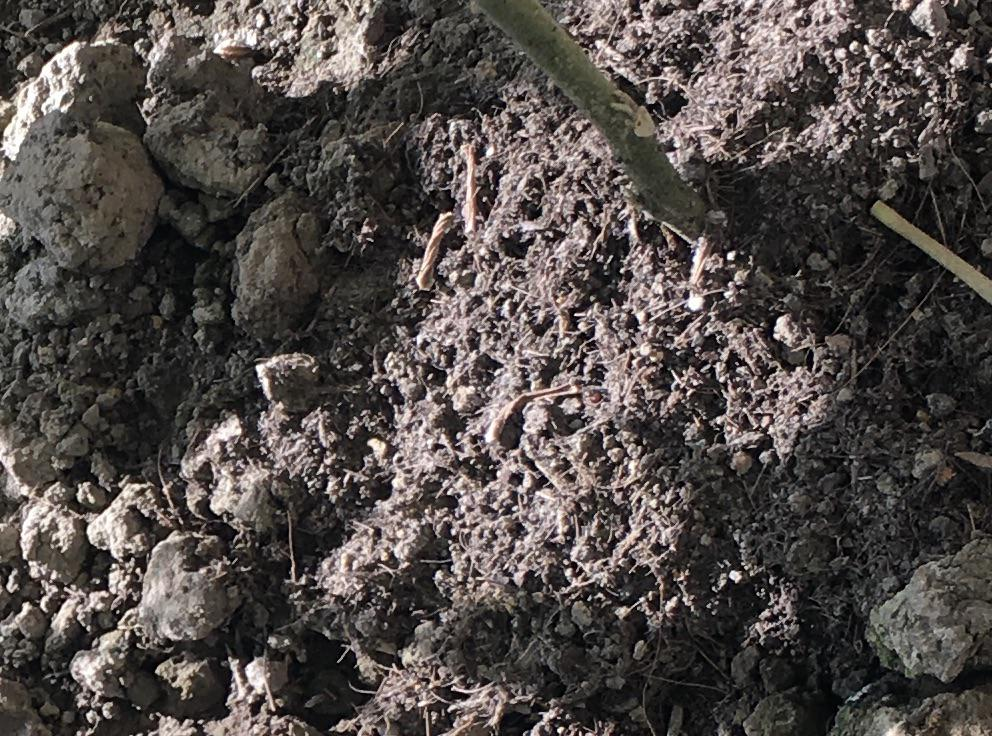block: (1, 116, 159, 276), (142, 32, 269, 187), (862, 534, 992, 683), (231, 190, 321, 333)
